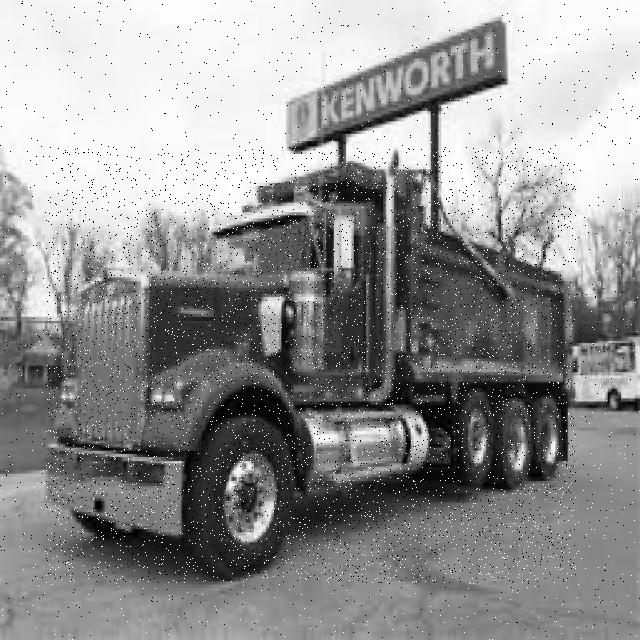Box Truck: (46, 147, 576, 583)
